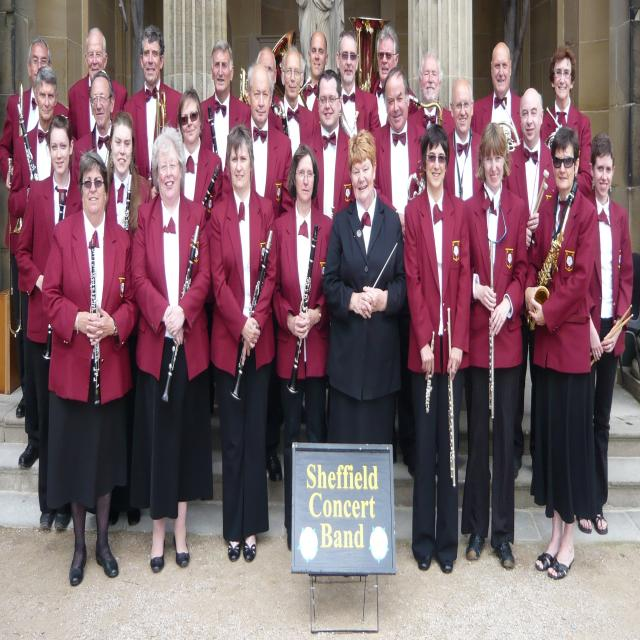clarinet: (229, 228, 274, 404), (160, 222, 200, 408), (286, 224, 319, 396), (88, 227, 102, 408), (16, 102, 38, 180), (199, 163, 222, 205), (207, 107, 220, 156)
